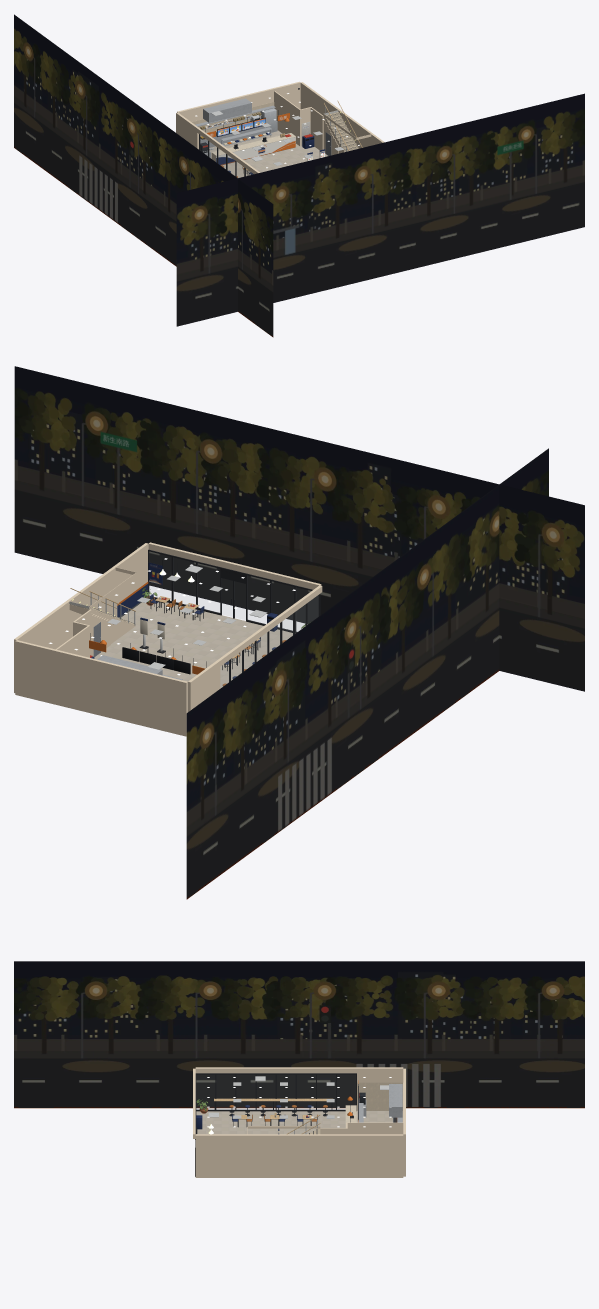
File: dakou_1f.glb
3 renders of one model, top to bottom at view 1: azimuth 30°, elevation 25°; view 2: azimuth 150°, elevation 25°; view 3: azimuth 270°, elevation 25°, orthographic. The views are drawn at different scales.
Visible parts, largest first — view 1: NIGHT_FRONT, NIGHT_WEST, dk_vc_matte, dk_wall, dk_vc_metal, FLOOR, WALL_right_plaster, WALL_back_plaster, WALL_left_solid, dk_vc_gloss, COUNTER_FACE; view 2: NIGHT_FRONT, NIGHT_WEST, WALL_back_plaster, FLOOR, WALL_right_plaster, dk_vc_matte, dk_wall, WALL_left_solid, WALL_front_frame, WALL_front_solid; view 3: NIGHT_WEST, WALL_right_plaster, FLOOR, WALL_left_solid, dk_wall, WALL_left_frame, dk_vc_gloss, dk_vc_matte, dk_vc_metal, dk_laminate.
Part boxes in pixels (x1,y1,x2,y2): NIGHT_FRONT: (176, 93, 584, 326); NIGHT_WEST: (14, 14, 273, 337); dk_vc_matte: (200, 88, 358, 177); dk_wall: (211, 91, 371, 161); dk_vc_metal: (195, 98, 346, 158); FLOOR: (209, 130, 327, 177); WALL_right_plaster: (300, 82, 384, 148); WALL_back_plaster: (177, 81, 300, 121); WALL_left_solid: (176, 112, 259, 174); dk_vc_gloss: (191, 102, 295, 156); COUNTER_FACE: (216, 137, 295, 165); NIGHT_FRONT: (14, 366, 584, 691); NIGHT_WEST: (186, 448, 548, 899); WALL_back_plaster: (15, 640, 187, 736); FLOOR: (94, 602, 292, 688); WALL_right_plaster: (14, 543, 148, 692); dk_vc_matte: (69, 562, 285, 686); dk_wall: (56, 567, 136, 657); WALL_left_solid: (188, 585, 322, 711); WALL_front_frame: (148, 549, 320, 633); WALL_front_solid: (148, 542, 321, 589); NIGHT_WEST: (14, 961, 584, 1108); WALL_right_plaster: (195, 1134, 403, 1177); FLOOR: (196, 1111, 402, 1134); WALL_left_solid: (195, 1067, 403, 1082); dk_wall: (247, 1122, 403, 1134); WALL_left_frame: (196, 1073, 356, 1111); dk_vc_gloss: (345, 1082, 403, 1127); dk_vc_matte: (196, 1076, 397, 1134); dk_vc_metal: (294, 1084, 402, 1134); dk_laminate: (214, 1098, 332, 1134).
Size of the model in its own units: 40 by 12.5 by 44.
19 materials, 14 textured.
